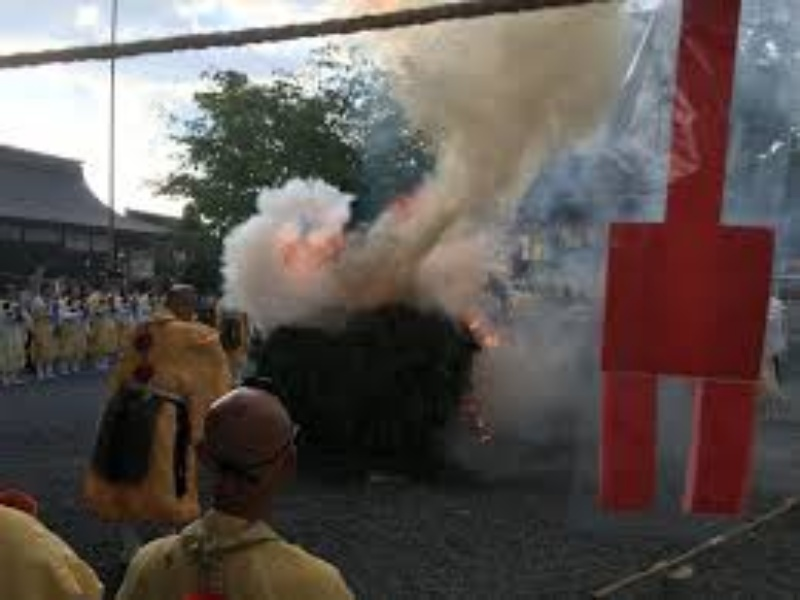smoke: (230, 1, 609, 309)
